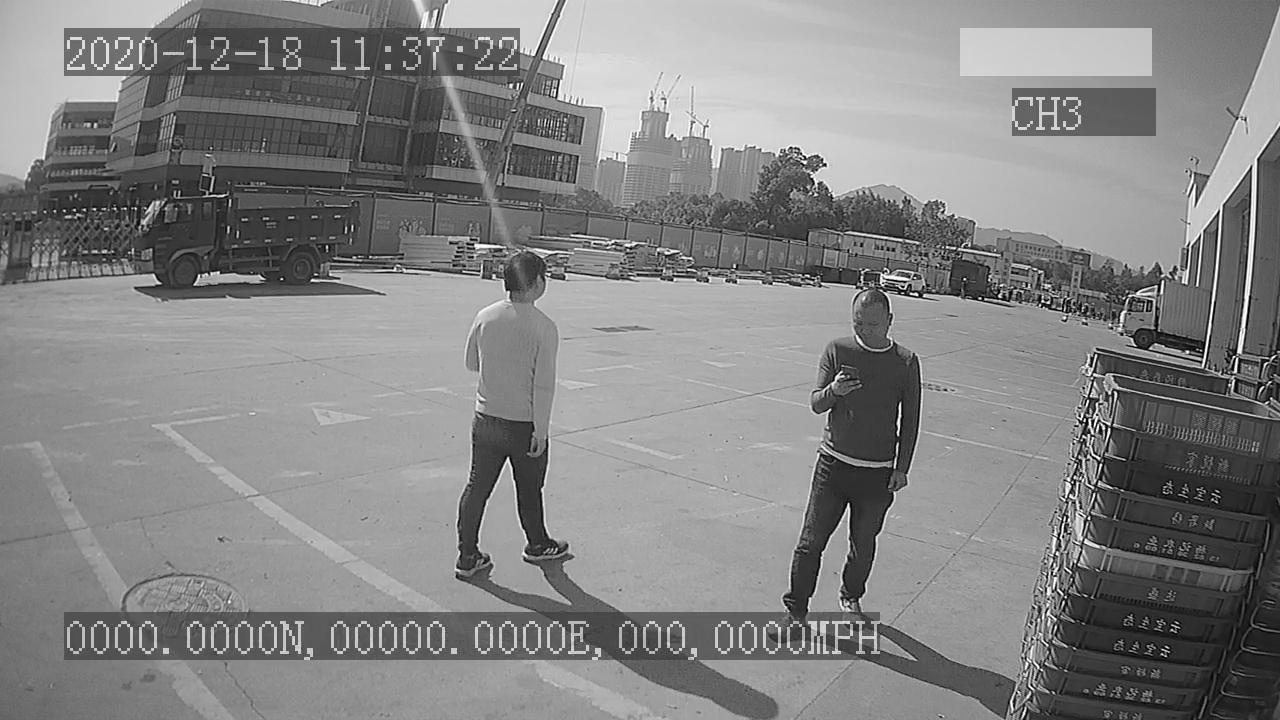person: (448, 250, 586, 577)
